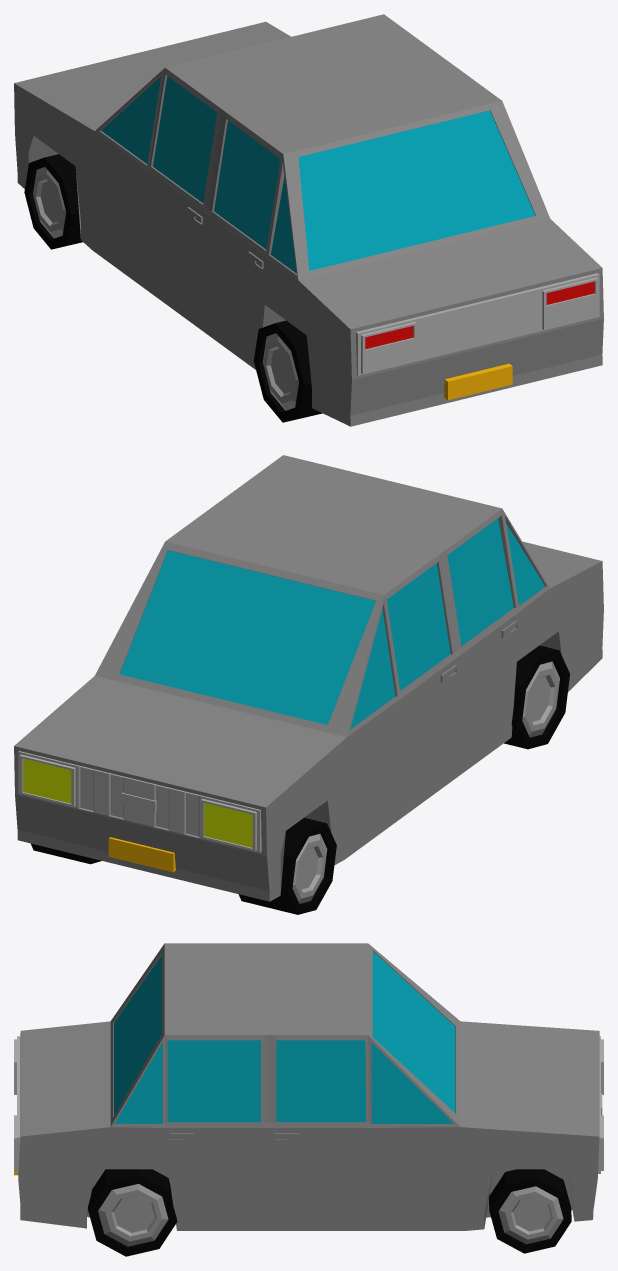
Rendered from Car.fbx.
3 renders of one model, top to bottom at view 1: azimuth 30°, elevation 25°; view 2: azimuth 150°, elevation 25°; view 3: azimuth 270°, elevation 25°, orthographic. The views are drawn at different scales.
Parts seen in each view (by area): view 1: CarBody; view 2: CarBody; view 3: CarBody.
Boxes of the visible parts, x1,y1,x2,y2 form: CarBody: (14, 14, 603, 426); CarBody: (14, 455, 603, 914); CarBody: (14, 943, 603, 1256).
Bounding box in the file's own units: 253 × 224 × 566.
